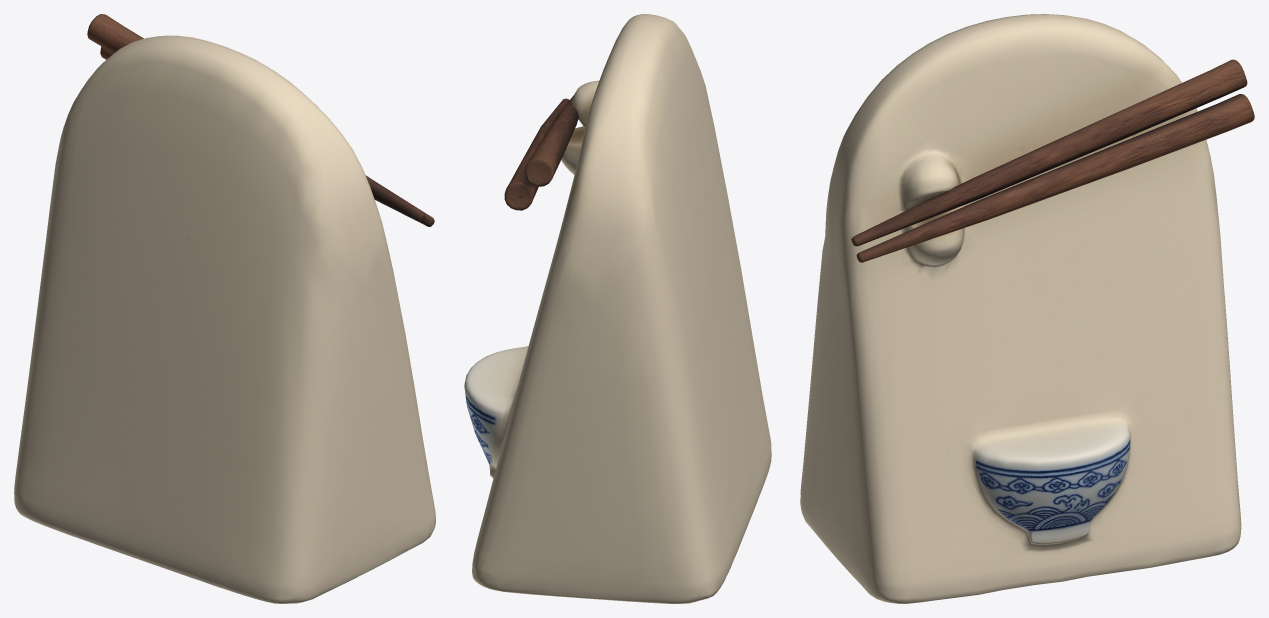
The model's file is empty-seat-card.glb.
3 views of the same model, side by side, from view 1: azimuth 30°, elevation 25°; view 2: azimuth 150°, elevation 25°; view 3: azimuth 270°, elevation 25° (orthographic). The views are drawn at different scales.
Visible parts, largest first — view 1: tripo_node_23f3847e-b81c-48e2-a442-54851d0bd77a; view 2: tripo_node_23f3847e-b81c-48e2-a442-54851d0bd77a; view 3: tripo_node_23f3847e-b81c-48e2-a442-54851d0bd77a.
Boxes of the visible parts, x1=… form: tripo_node_23f3847e-b81c-48e2-a442-54851d0bd77a: x1=14, y1=14, x2=435, y2=603; tripo_node_23f3847e-b81c-48e2-a442-54851d0bd77a: x1=464, y1=14, x2=771, y2=603; tripo_node_23f3847e-b81c-48e2-a442-54851d0bd77a: x1=800, y1=14, x2=1254, y2=603.
Size of the model in its own units: 0.6436 by 0.9995 by 0.8118.
1 material, 1 textured.
